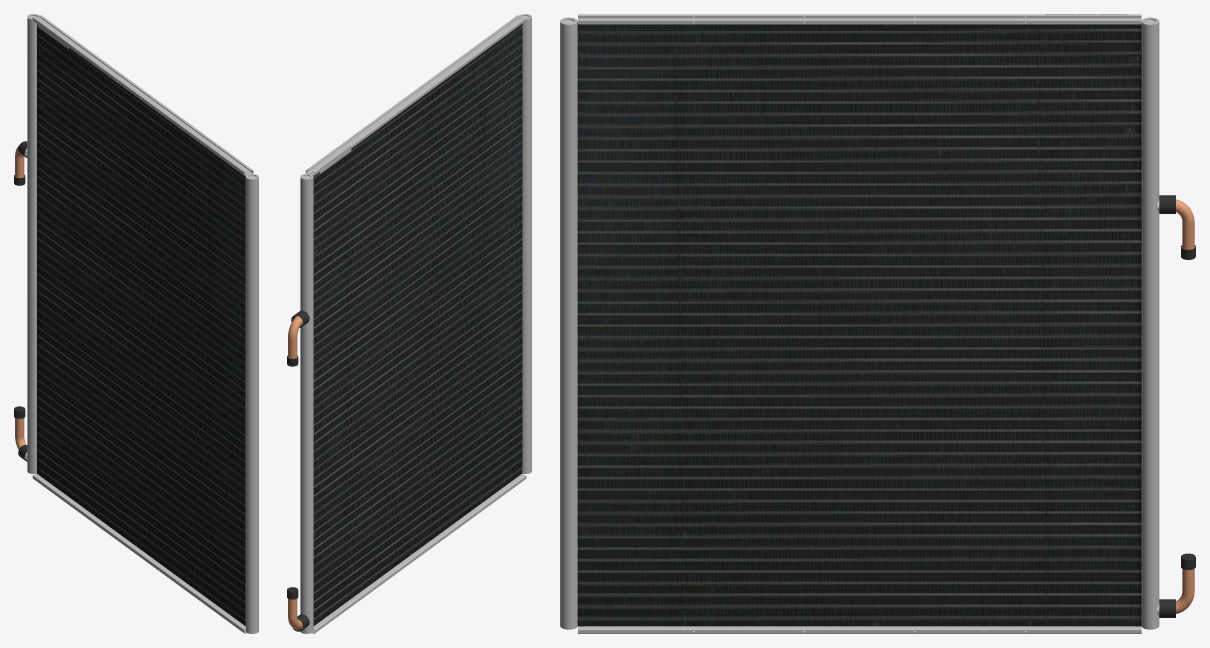
3 renders of one model, left to right at view 1: azimuth 30°, elevation 25°; view 2: azimuth 150°, elevation 25°; view 3: azimuth 270°, elevation 25°, orthographic. The views are drawn at different scales.
Parts seen in each view (by area): view 1: Plane.002, Solid1.001, Solid1, Solid1.013, Solid1.012; view 2: Plane.002, Solid1, Solid1.001, Solid1.013, Solid1.012, Solid1.041; view 3: Plane.001, Solid1, Solid1.001, Solid1.013, Solid1.012.
Part boxes in pixels (<box>): Plane.002: <box>37,24,245,625</box>; Solid1.001: <box>245,174,258,633</box>; Solid1: <box>27,14,40,473</box>; Solid1.013: <box>32,15,253,175</box>; Solid1.012: <box>32,474,246,633</box>; Plane.002: <box>313,24,522,625</box>; Solid1: <box>300,174,313,633</box>; Solid1.001: <box>518,14,531,473</box>; Solid1.013: <box>305,15,526,175</box>; Solid1.012: <box>312,474,526,633</box>; Solid1.041: <box>287,316,302,358</box>; Plane.001: <box>577,22,1141,626</box>; Solid1: <box>1141,17,1159,629</box>; Solid1.001: <box>560,17,577,629</box>; Solid1.013: <box>578,14,1141,24</box>; Solid1.012: <box>578,626,1141,633</box>.
Size of the model in its own units: 0.0332 by 1.22 by 1.14.
5 materials, 1 textured.
